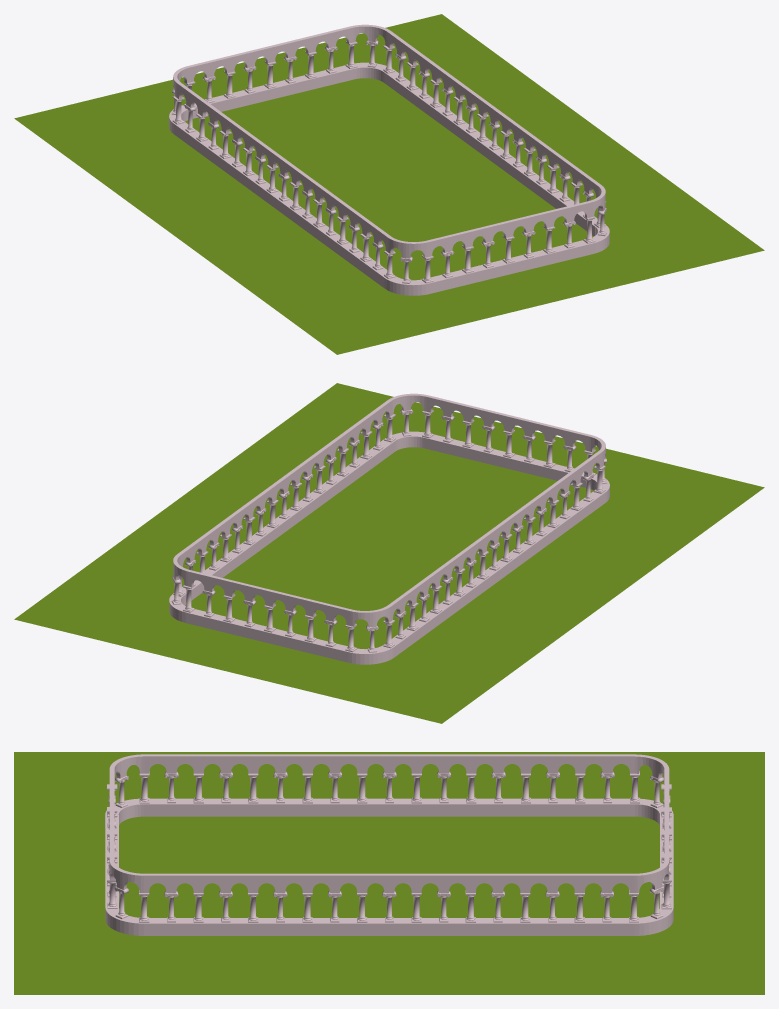
Rendered from arena.glb.
3 views of the same model, one above another, from view 1: azimuth 30°, elevation 25°; view 2: azimuth 150°, elevation 25°; view 3: azimuth 270°, elevation 25° (orthographic). The views are drawn at different scales.
Parts seen in each view (by area): view 1: Plane.001, ARENA; view 2: Plane.001, ARENA; view 3: Plane.001, ARENA.
Part boxes in pixels (x1=…): Plane.001: x1=14, y1=14, x2=764, y2=354; ARENA: x1=169, y1=24, x2=609, y2=295; Plane.001: x1=14, y1=383, x2=764, y2=723; ARENA: x1=169, y1=393, x2=609, y2=664; Plane.001: x1=14, y1=752, x2=764, y2=994; ARENA: x1=105, y1=754, x2=673, y2=935.
Bounding box in the file's own units: 41.01 × 4.6 × 53.64.
